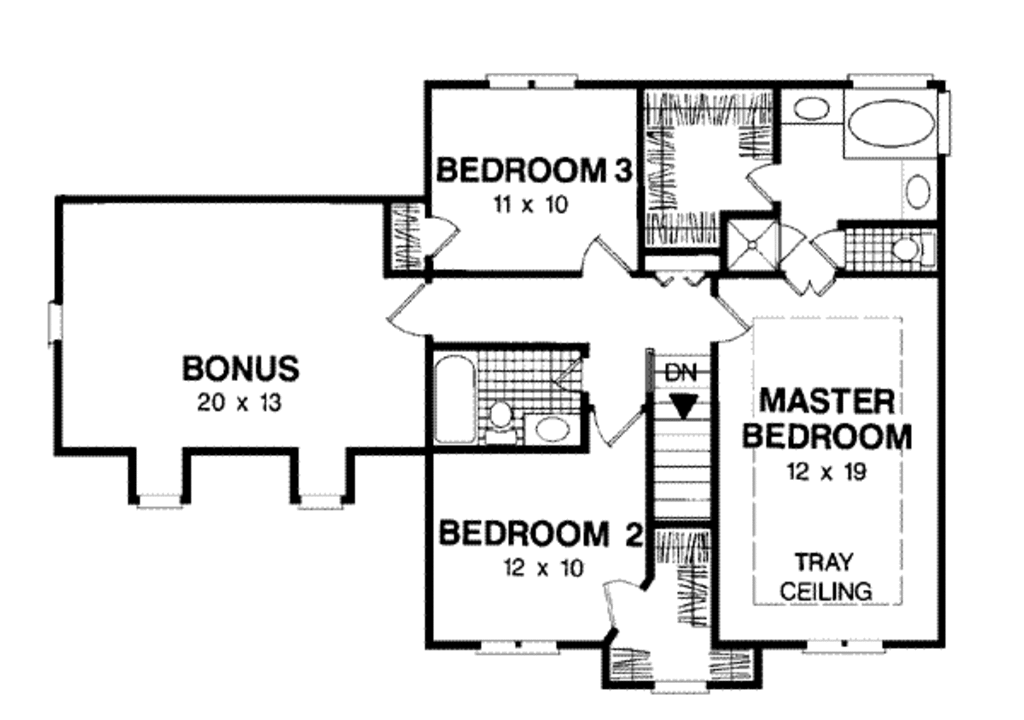door: (570, 235, 633, 280), (383, 278, 428, 337), (584, 403, 641, 448), (600, 576, 641, 632), (715, 293, 754, 347), (738, 160, 780, 209), (773, 270, 835, 301), (809, 224, 848, 269), (426, 213, 463, 256)
large_sink: (482, 402, 525, 453), (894, 232, 935, 272)
small_sink: (897, 158, 941, 226), (781, 90, 852, 126), (523, 413, 582, 447)
stairs: (641, 342, 720, 522)
tub: (844, 90, 936, 159), (432, 345, 480, 445)
windows: (483, 71, 573, 93), (470, 637, 560, 656), (800, 635, 881, 655), (648, 678, 709, 700), (42, 297, 63, 352), (134, 494, 182, 514), (296, 492, 344, 510)
